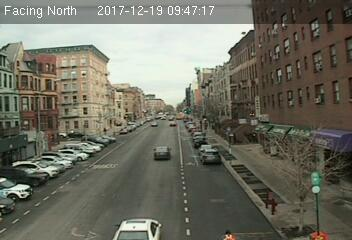car: (200, 149, 222, 163), (152, 146, 172, 159)
